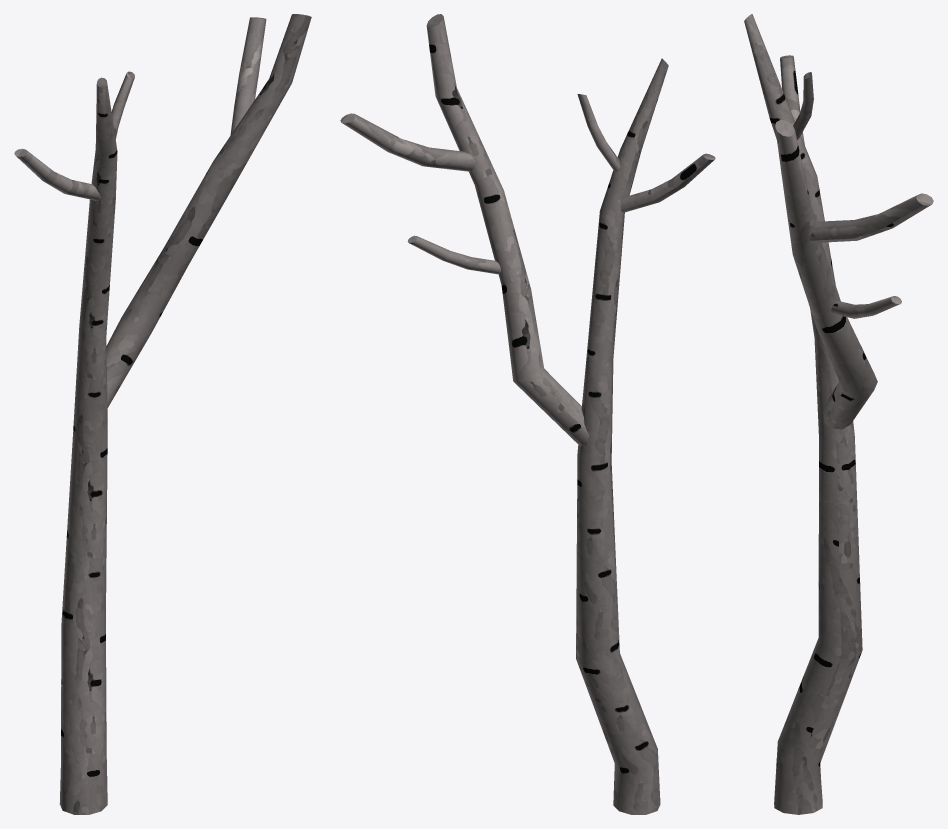
The model's file is DeadBirch_2.glb.
3 views of the same model, side by side, from view 1: azimuth 30°, elevation 25°; view 2: azimuth 150°, elevation 25°; view 3: azimuth 270°, elevation 25° (orthographic). The views are drawn at different scales.
Visible parts, largest first — view 1: DeadBirch_2; view 2: DeadBirch_2; view 3: DeadBirch_2.
Boxes of the visible parts, left/top/right/bottom form: DeadBirch_2: left=14, top=14, right=311, bottom=814; DeadBirch_2: left=340, top=14, right=715, bottom=814; DeadBirch_2: left=744, top=14, right=933, bottom=814.
Bounding box in the file's own units: 3.86 × 8.74 × 1.9.
Materials: 1 (1 with a texture image).
